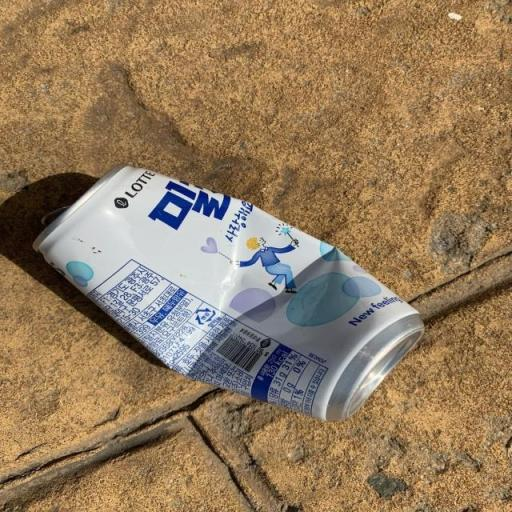metal: (21, 158, 475, 476)
